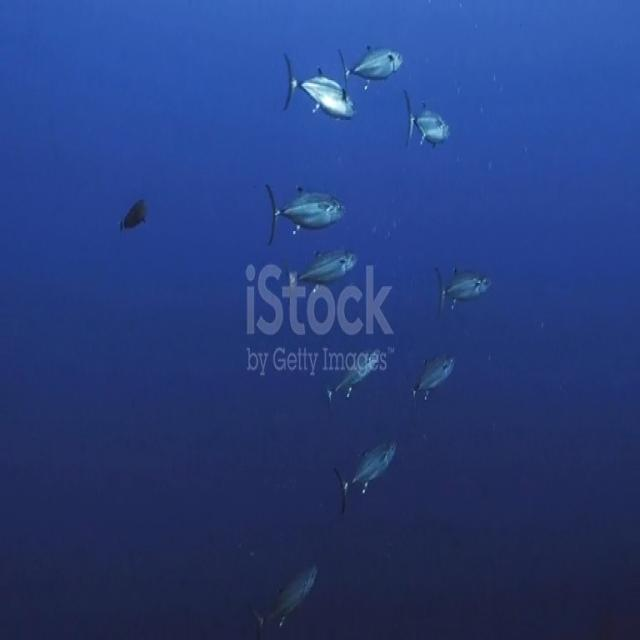fish: (278, 58, 356, 143), (262, 168, 349, 239), (248, 559, 324, 633), (331, 24, 410, 89), (395, 74, 457, 156), (331, 442, 405, 502), (319, 348, 388, 400), (431, 254, 493, 311), (292, 239, 359, 289), (408, 348, 457, 400), (116, 193, 150, 233)
